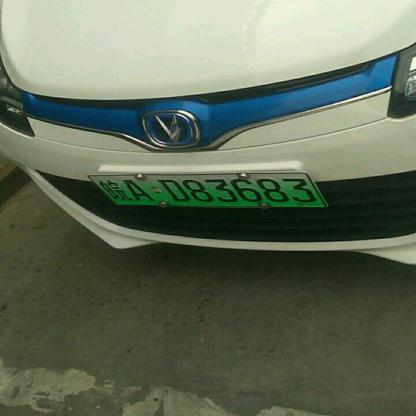lp: (87, 172, 326, 206)
